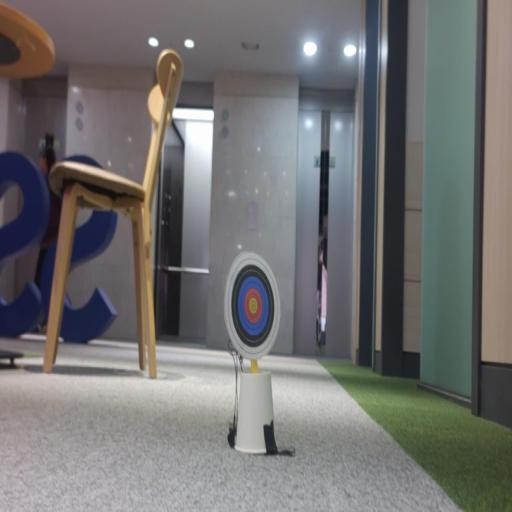target: (224, 252, 280, 359)
